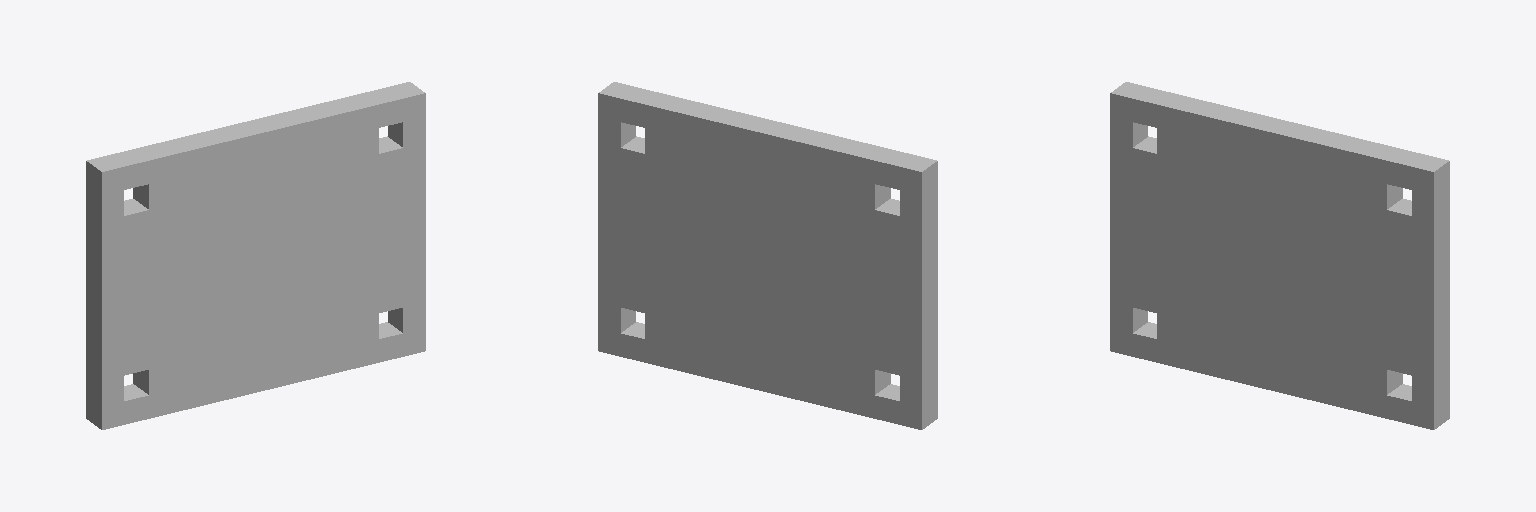
The model's file is panel3.OBJ.
3 renders of one model, left to right at view 1: azimuth 30°, elevation 25°; view 2: azimuth 150°, elevation 25°; view 3: azimuth 330°, elevation 25°, orthographic.
Parts seen in each view (by area): view 1: Group44053; view 2: Group44053; view 3: Group44053.
Part boxes in pixels (x1,y1,x2,y2): Group44053: (86,82,425,429); Group44053: (598,82,937,429); Group44053: (1110,82,1449,429).
Size of the model in its own units: 1.99 by 1.52 by 0.1677.